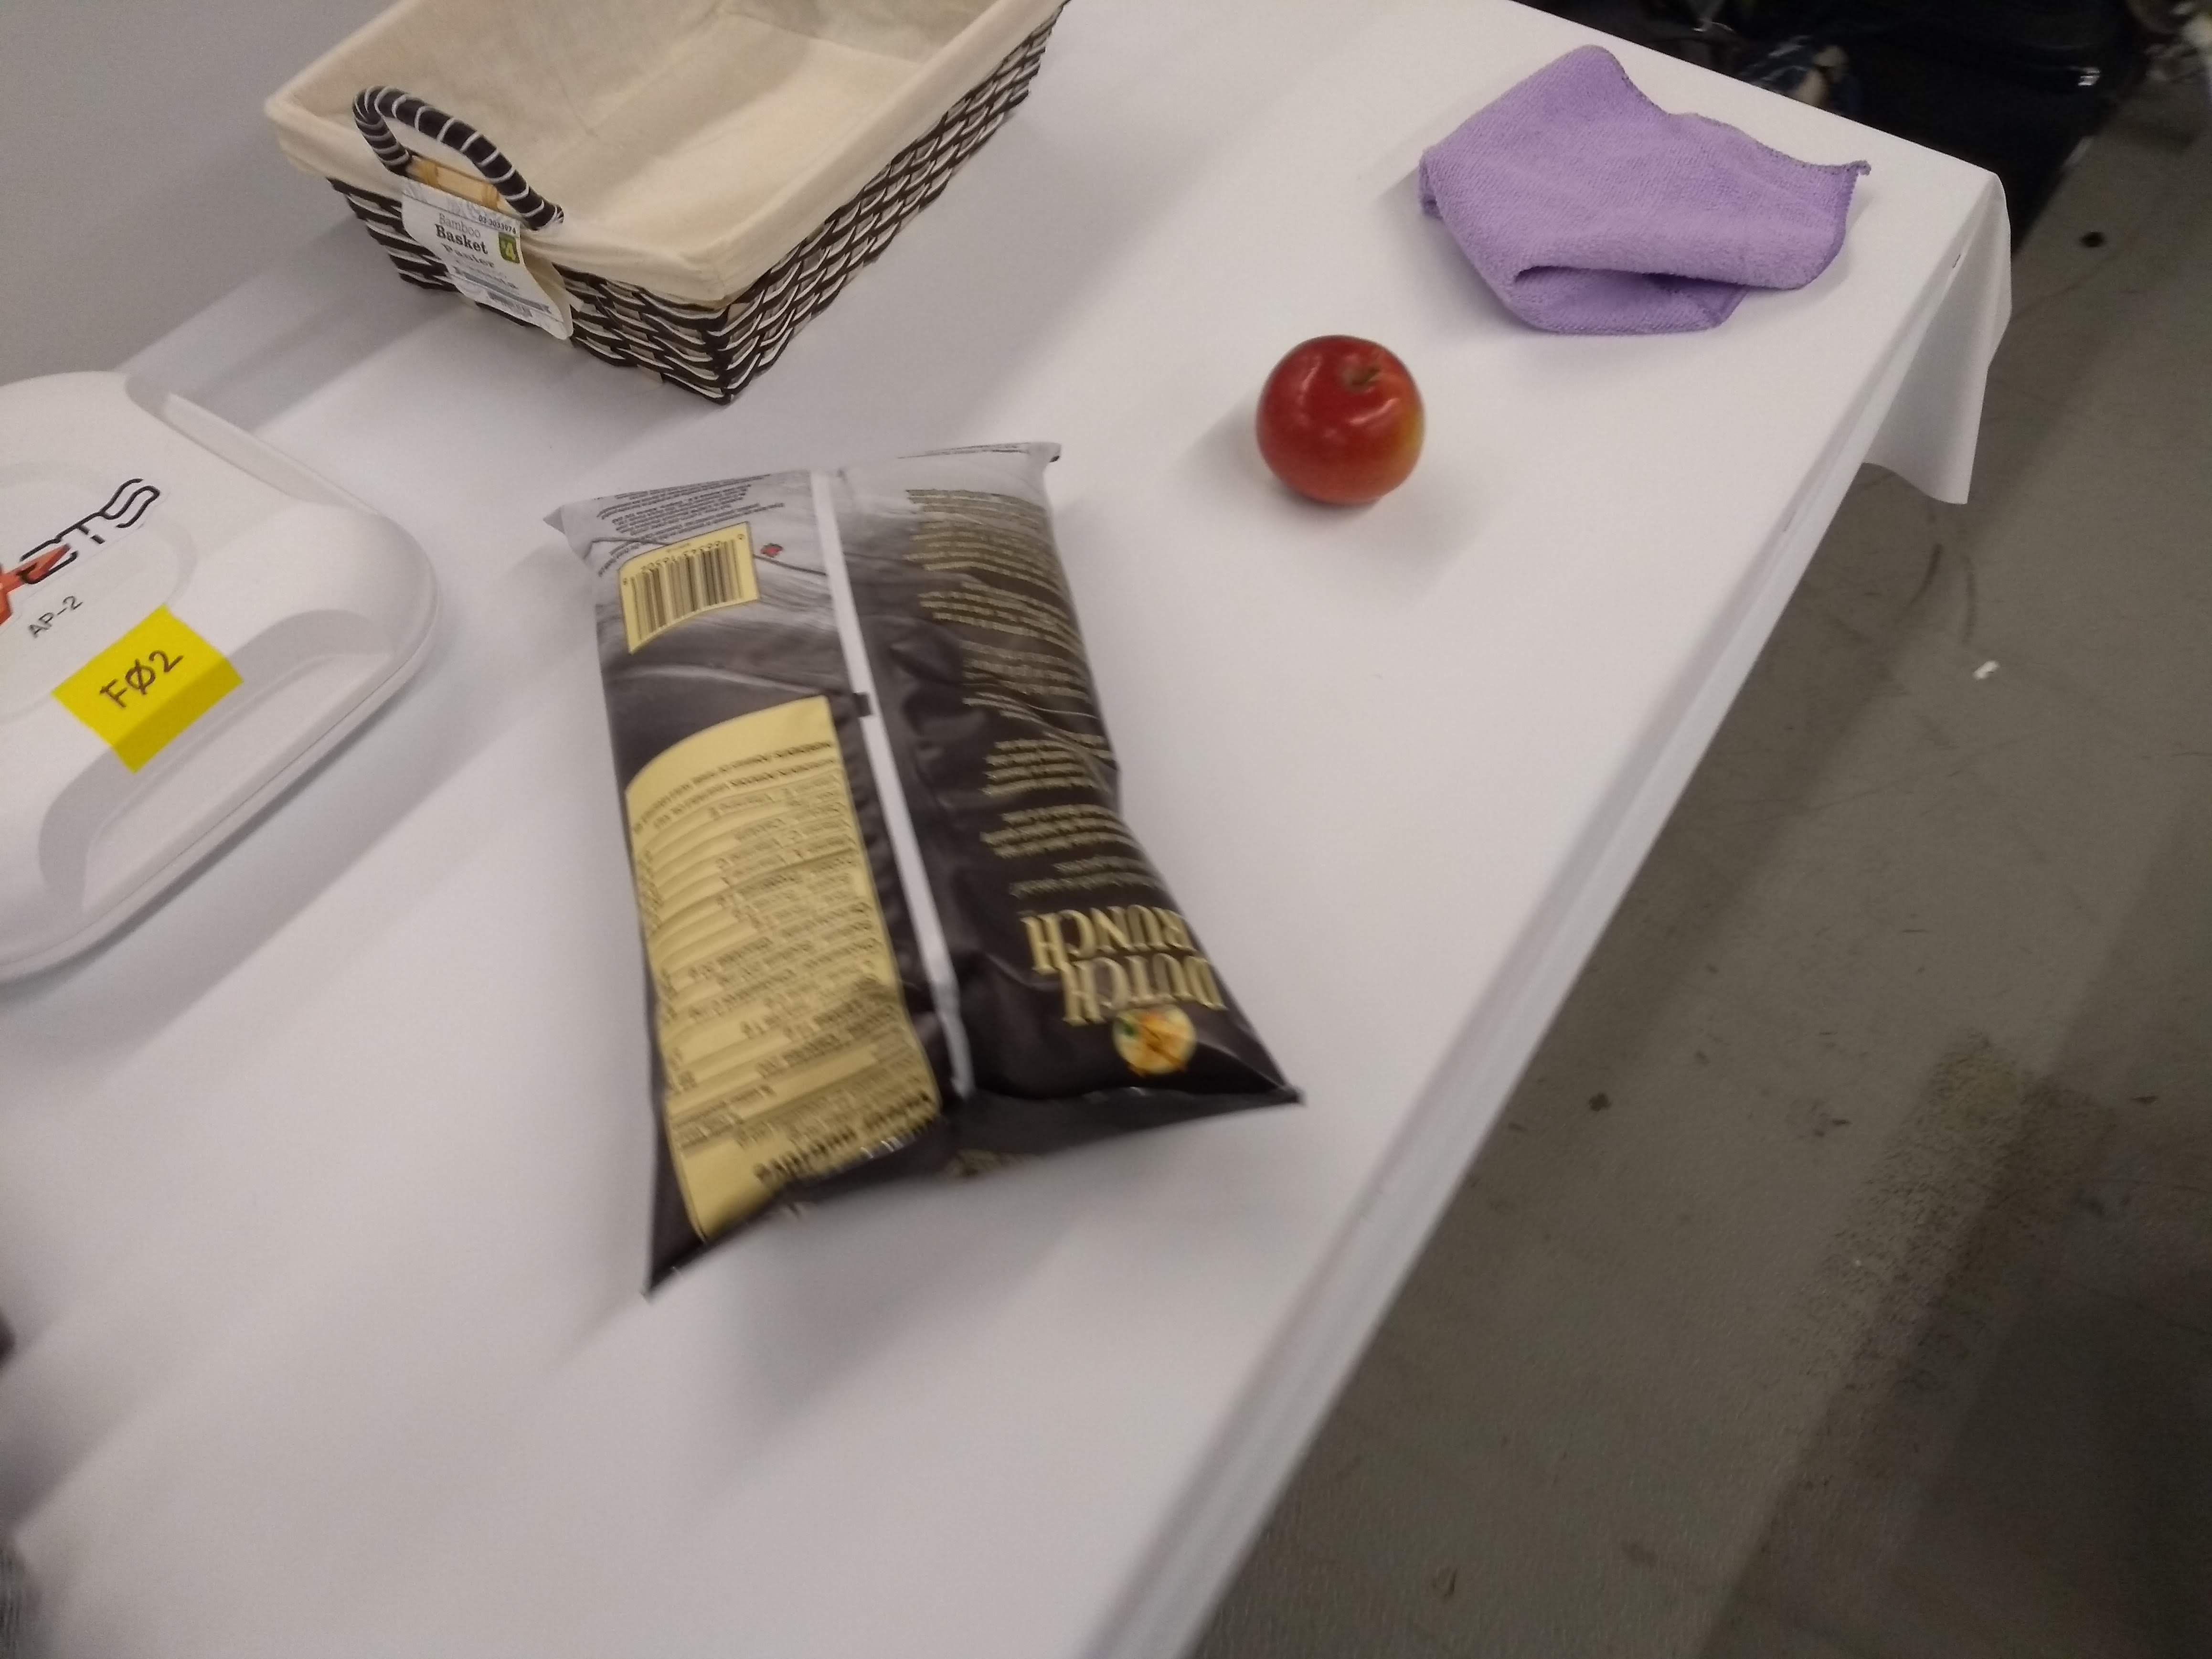apple: (1245, 324, 1439, 514)
cloth_opl: (1409, 52, 1879, 350)
potato_chips: (536, 427, 1315, 1314)
